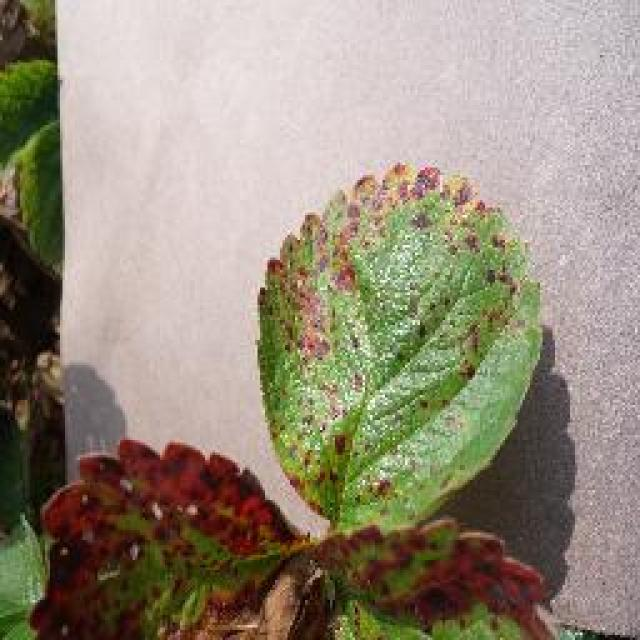Strawberry leaf scorch: (302, 217, 498, 413)
